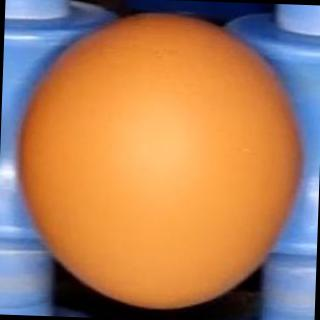Telur: (15, 8, 308, 315)
